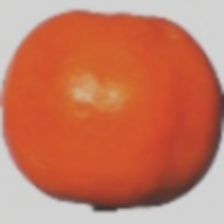tangerine: (23, 9, 209, 174)
